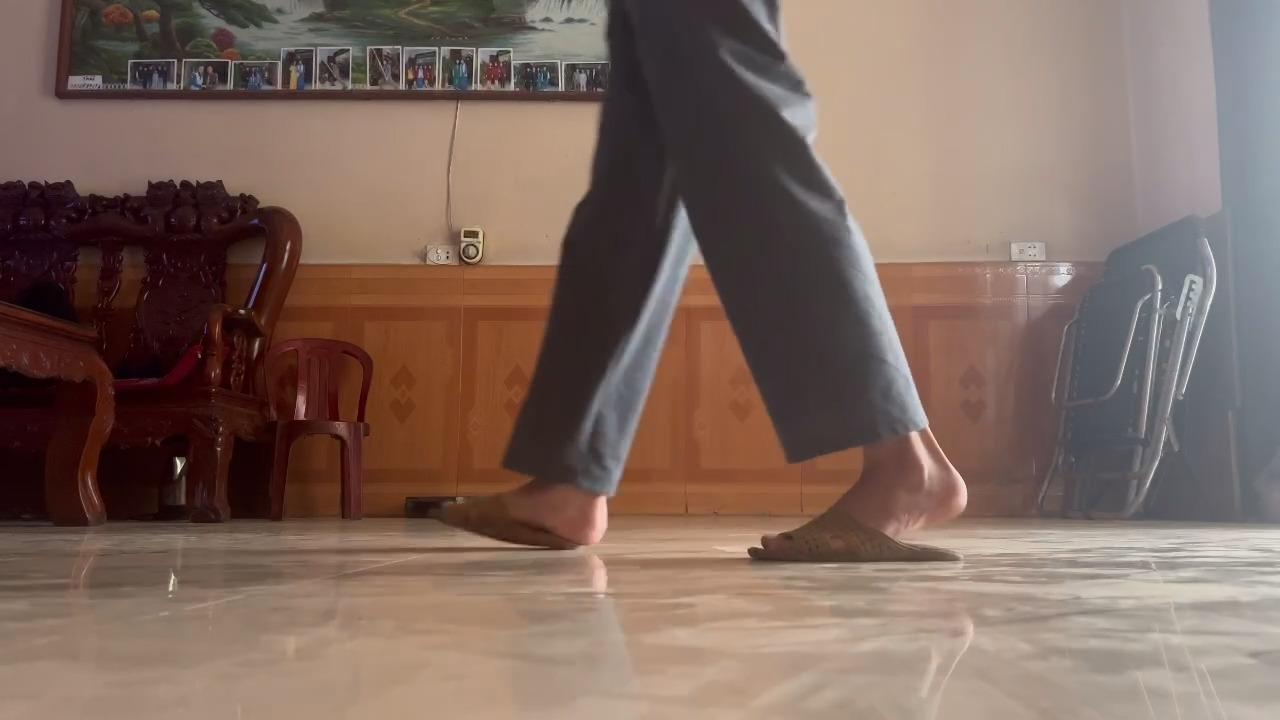no-boot: (738, 450, 979, 573), (420, 490, 617, 554)
